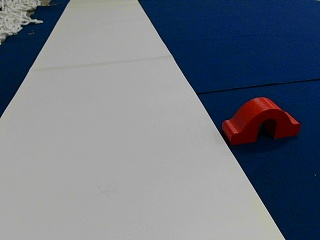bridge: (224, 96, 299, 142)
